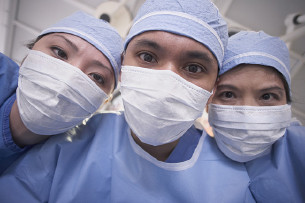face_mask: (15, 26, 109, 137), (123, 29, 211, 146), (211, 63, 289, 160)
